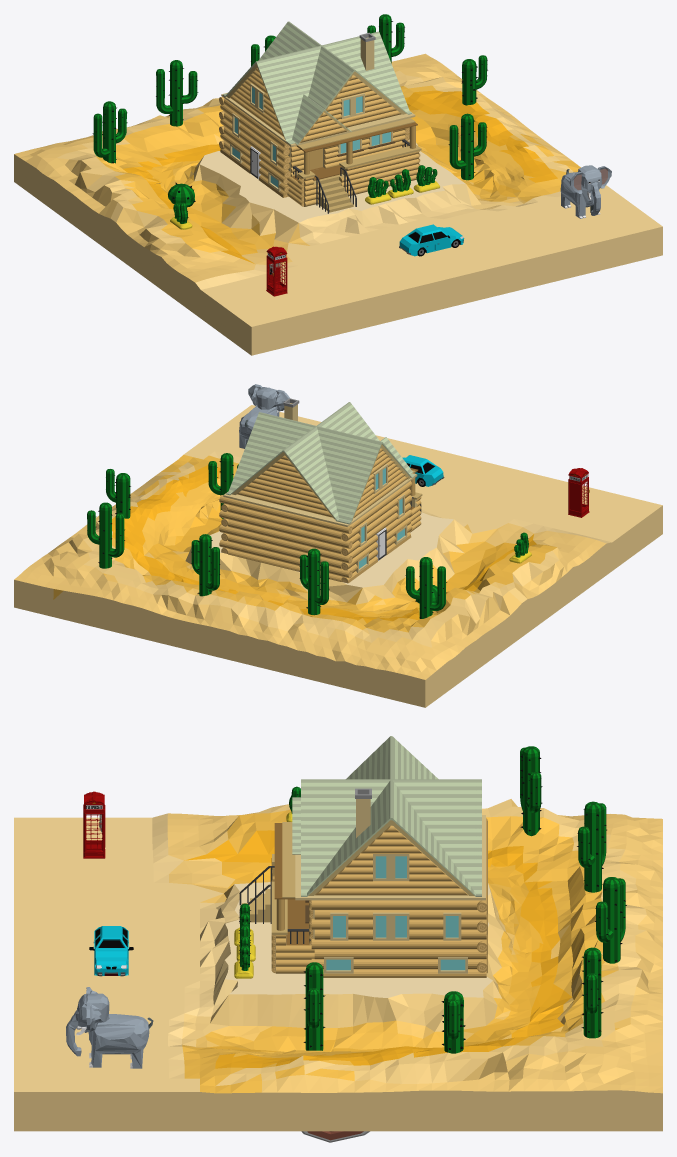
3 renders of one model, top to bottom at view 1: azimuth 30°, elevation 25°; view 2: azimuth 150°, elevation 25°; view 3: azimuth 270°, elevation 25°, orthographic. The views are drawn at different scales.
Parts seen in each view (by area): view 1: Cube.001, Cube.1516, ANIMAL_ELEFANTE, Cylinder.044, Cylinder.037, Cylinder.045, VEHICLES_CAR, OBJRANDOM_PHONEBOOTH, Cylinder.038, Cylinder.042, Cylinder.039, Cylinder.041; view 2: Cube.001, Cube.1516, Cylinder.042, Cylinder.045, Cylinder.044, Cylinder.043, ANIMAL_ELEFANTE, OBJRANDOM_PHONEBOOTH, Cylinder.038, Cylinder.037, VEHICLES_CAR; view 3: Cube.001, Cube.1516, ANIMAL_ELEFANTE, Cylinder.044, Cylinder.043, VEHICLES_CAR, Cylinder.045, Cylinder.042, Cylinder.037, OBJRANDOM_PHONEBOOTH, Cylinder.038, Cylinder.041.
Boxes of the visible parts, x1,y1,x2,y2 form: Cube.001: (14,53,662,355); Cube.1516: (219,21,421,213); ANIMAL_ELEFANTE: (560,165,611,218); Cylinder.044: (156,60,198,126); Cylinder.037: (448,113,487,180); Cylinder.045: (92,101,127,163); VEHICLES_CAR: (399,224,464,256); OBJRANDOM_PHONEBOOTH: (266,246,287,296); Cylinder.038: (461,55,487,105); Cylinder.042: (367,14,405,63); Cylinder.039: (365,177,391,204); Cylinder.041: (413,165,439,192); Cube.001: (14,405,662,707); Cube.1516: (219,398,422,583); Cylinder.042: (87,502,124,568); Cylinder.045: (405,557,446,618); Cylinder.044: (299,548,329,615); Cylinder.043: (191,534,220,596); ANIMAL_ELEFANTE: (239,384,289,448); OBJRANDOM_PHONEBOOTH: (568,468,589,517); Cylinder.038: (106,469,130,518); Cylinder.037: (208,453,238,518); VEHICLES_CAR: (402,455,444,486); Cube.001: (14,799,662,1131); Cube.1516: (239,736,487,977); ANIMAL_ELEFANTE: (66,987,153,1068); Cylinder.044: (577,801,606,892); Cylinder.043: (595,877,626,963); VEHICLES_CAR: (89,926,133,976); Cylinder.045: (520,746,542,836); Cylinder.042: (581,947,603,1038); Cylinder.037: (303,962,325,1050); OBJRANDOM_PHONEBOOTH: (83,791,105,858); Cylinder.038: (441,991,465,1053); Cylinder.041: (234,936,253,978).
Size of the model in its own units: 4002 by 2343 by 4001.
48 materials, 3 textured.
